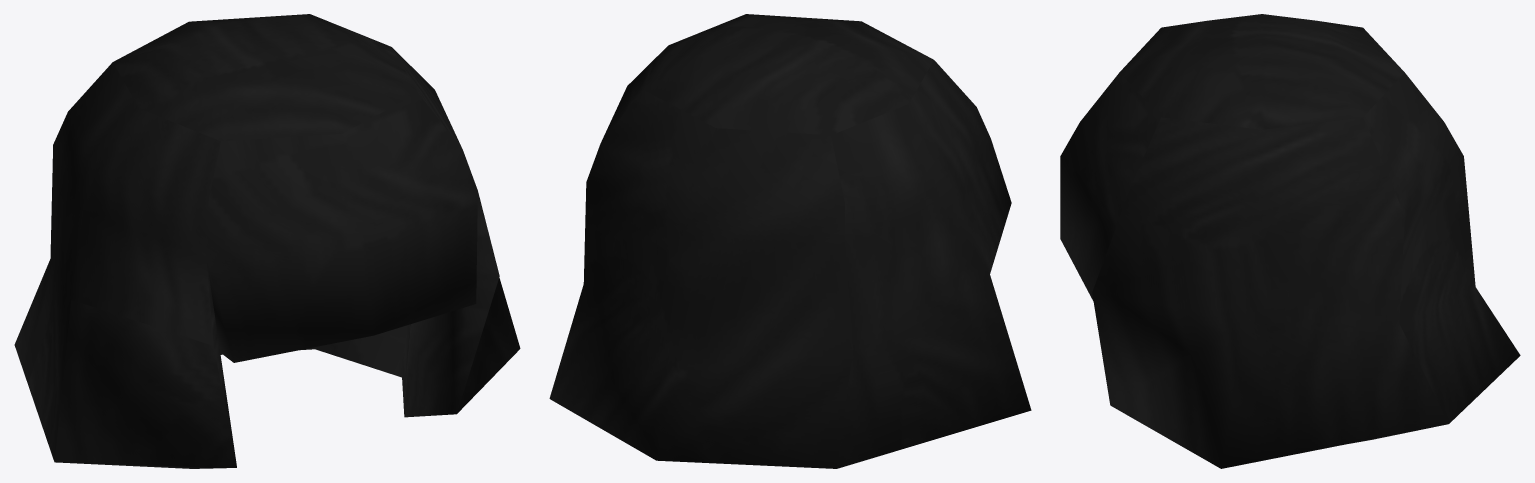
Rendered from five_dollar_milkshake.glb.
3 views of the same model, side by side, from view 1: azimuth 30°, elevation 25°; view 2: azimuth 150°, elevation 25°; view 3: azimuth 270°, elevation 25° (orthographic). The views are drawn at different scales.
Visible parts, largest first — view 1: Five-Dollar Milkshake; view 2: Five-Dollar Milkshake; view 3: Five-Dollar Milkshake.
Boxes of the visible parts, x1,y1,x2,y2 form: Five-Dollar Milkshake: [14, 14, 520, 468]; Five-Dollar Milkshake: [549, 14, 1031, 468]; Five-Dollar Milkshake: [1060, 14, 1520, 468].
Bounding box in the file's own units: 0.3642 × 0.2796 × 0.3343.
1 material, 1 textured.
